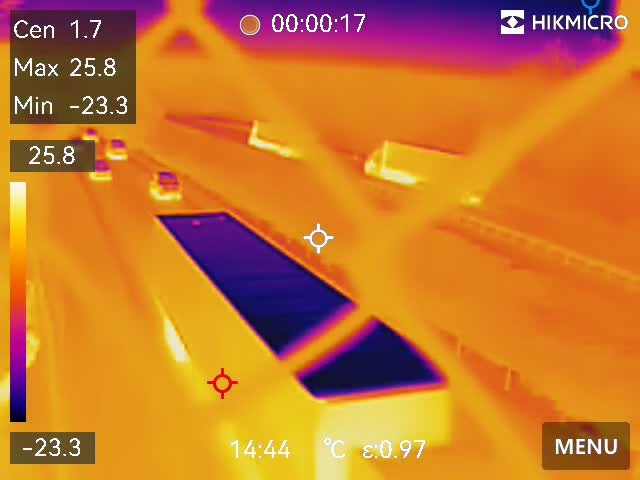heavyTruck: (143, 204, 462, 480), (361, 136, 486, 207), (244, 114, 317, 163)
vehicle: (148, 162, 183, 203), (85, 156, 115, 187), (103, 137, 130, 168), (81, 128, 100, 145)
